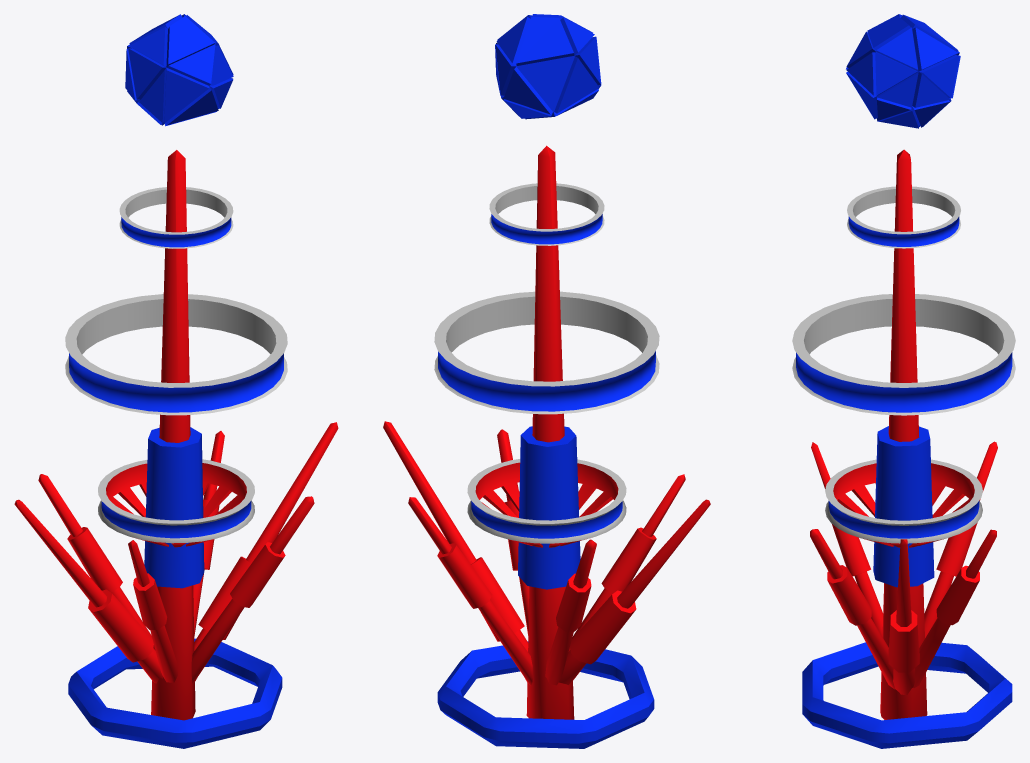
Rendered from transmitter.obj.
The picture shows the model from 3 angles, left to right: view 1: azimuth 30°, elevation 25°; view 2: azimuth 150°, elevation 25°; view 3: azimuth 270°, elevation 25°; orthographic projection.
Visible parts, largest first — view 1: Cone.004_Cone.003, Cylinder.004_Cylinder.007, Cone.003_Cone.001, Cylinder.006_Cylinder.010, Icosphere.001_Icosphere.001, Cone.005_Cone.004, Cylinder.005_Cylinder.009, Cylinder.007_Cylinder.011; view 2: Cone.004_Cone.003, Cylinder.004_Cylinder.007, Cylinder.006_Cylinder.010, Cone.003_Cone.001, Icosphere.001_Icosphere.001, Cone.005_Cone.004, Cylinder.005_Cylinder.009, Cylinder.007_Cylinder.011; view 3: Cone.004_Cone.003, Cylinder.004_Cylinder.007, Cylinder.006_Cylinder.010, Icosphere.001_Icosphere.001, Cone.005_Cone.004, Cylinder.005_Cylinder.009, Cone.003_Cone.001, Cylinder.007_Cylinder.011.
Boxes of the visible parts, <box> form: Cone.004_Cone.003: <box>144,150,204,720</box>; Cylinder.004_Cylinder.007: <box>65,294,287,415</box>; Cone.003_Cone.001: <box>14,474,177,683</box>; Cylinder.006_Cylinder.010: <box>68,638,282,748</box>; Icosphere.001_Icosphere.001: <box>125,14,233,126</box>; Cone.005_Cone.004: <box>191,422,338,683</box>; Cylinder.005_Cylinder.009: <box>98,459,254,547</box>; Cylinder.007_Cylinder.011: <box>119,187,233,248</box>; Cone.004_Cone.003: <box>518,145,580,719</box>; Cylinder.004_Cylinder.007: <box>434,291,659,414</box>; Cylinder.006_Cylinder.010: <box>437,641,654,748</box>; Cone.003_Cone.001: <box>545,474,710,685</box>; Icosphere.001_Icosphere.001: <box>495,14,601,119</box>; Cone.005_Cone.004: <box>383,421,532,686</box>; Cylinder.005_Cylinder.009: <box>467,459,626,547</box>; Cylinder.007_Cylinder.011: <box>489,183,604,245</box>; Cone.004_Cone.003: <box>873,149,934,719</box>; Cylinder.004_Cylinder.007: <box>792,294,1015,415</box>; Cylinder.006_Cylinder.010: <box>802,642,1012,748</box>; Icosphere.001_Icosphere.001: <box>846,14,960,128</box>; Cone.005_Cone.004: <box>810,529,996,694</box>; Cylinder.005_Cylinder.009: <box>825,459,982,547</box>; Cone.003_Cone.001: <box>811,441,997,637</box>; Cylinder.007_Cylinder.011: <box>847,186,960,248</box>.
Size of the model in its own units: 12.6 by 26.34 by 9.39.
